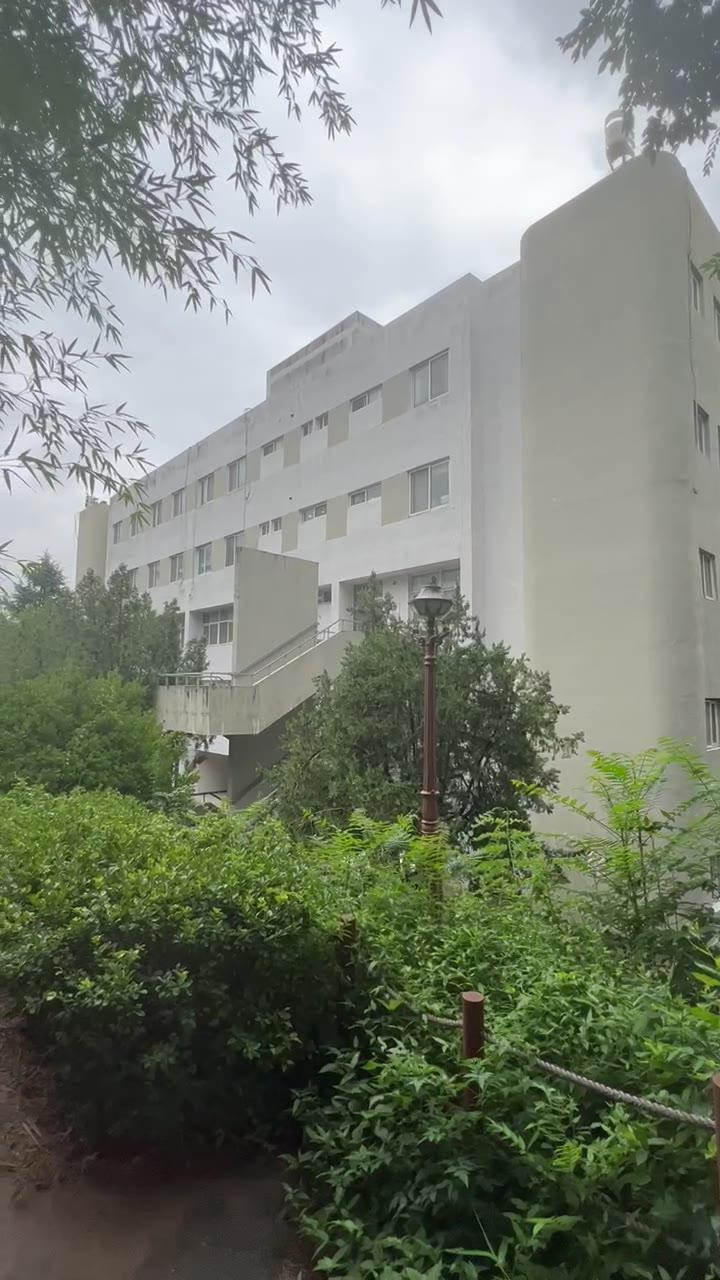building: (210, 268, 718, 648)
